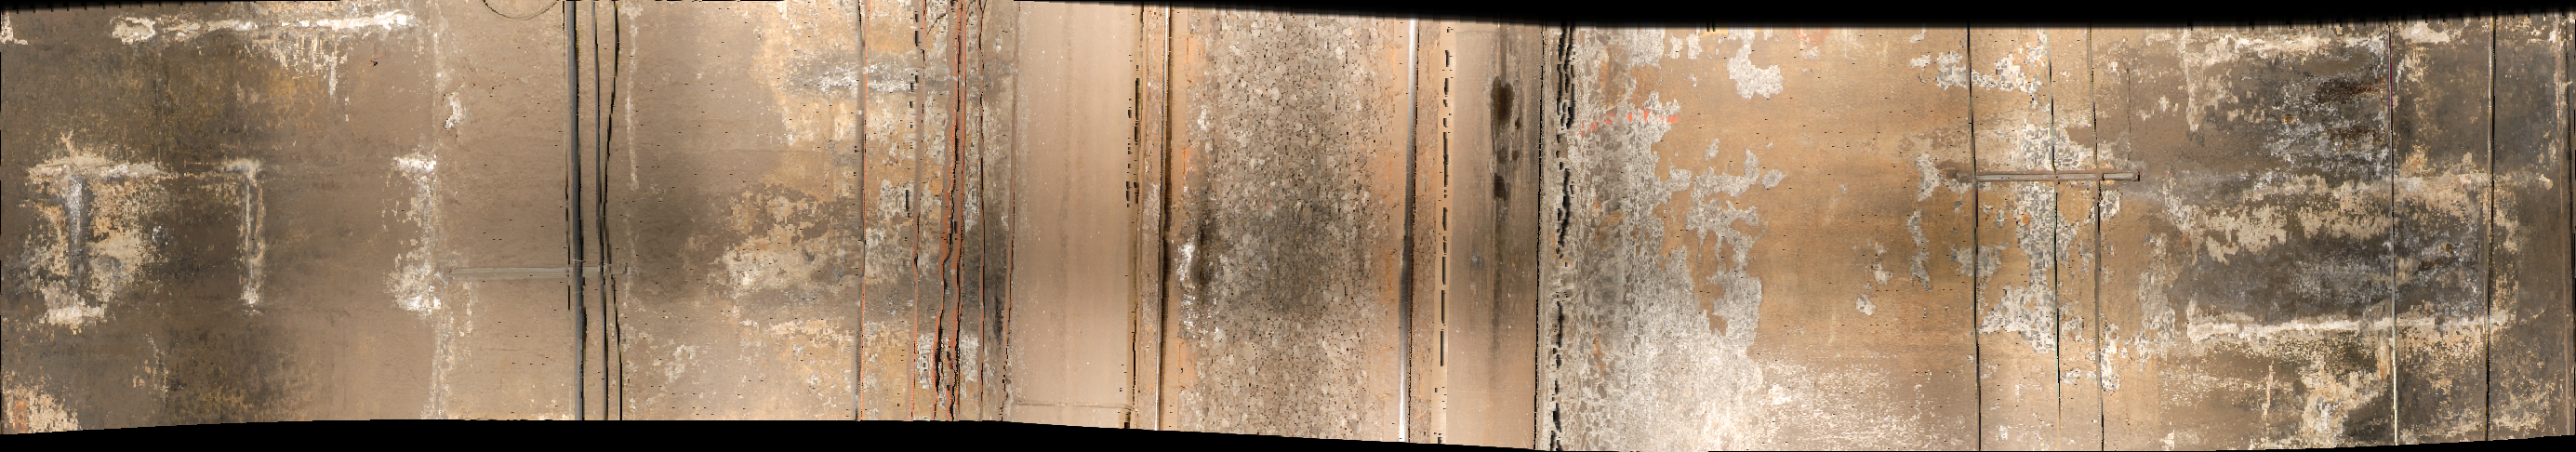pipes: (562, 2, 632, 442), (2380, 20, 2410, 452), (1960, 31, 1988, 452), (2486, 18, 2504, 452)
tracks: (963, 2, 1559, 452)
